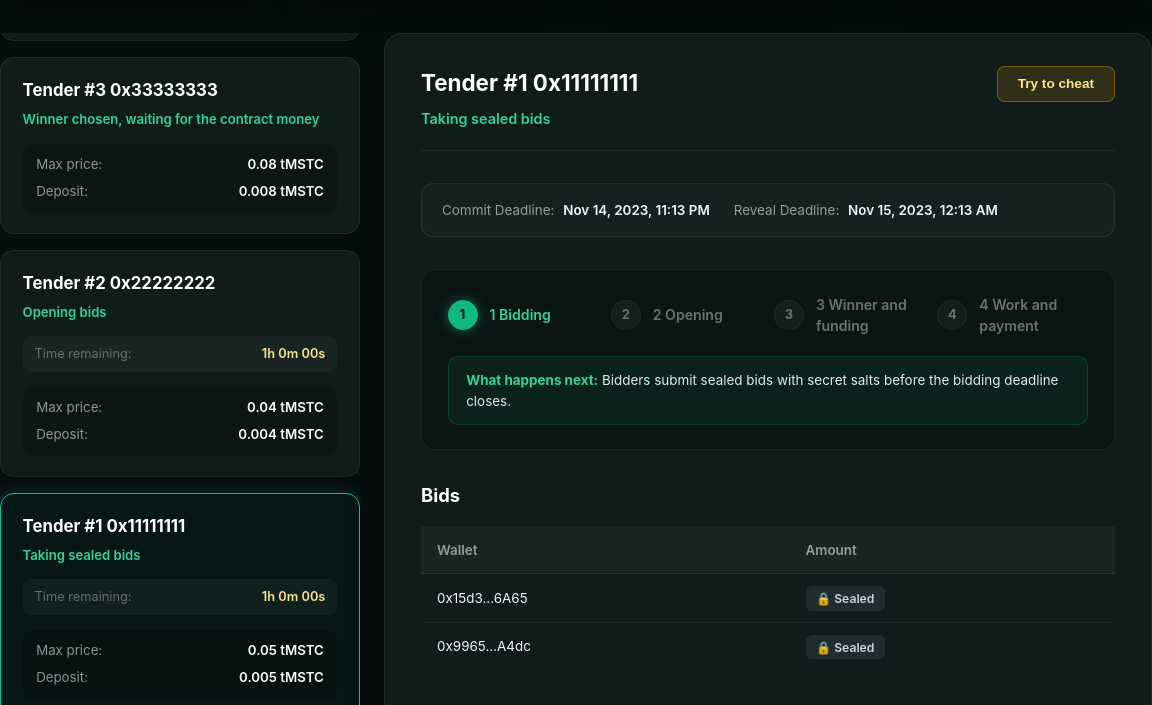
Test: PublicAuditTab Component Tests › opens, runs verification, and closes Try to cheat modal
The image size is (1152, 705).
(page scrolled)
// Open Cheat Modal
What coordinates should you click on to do the following:
click the button "Try to cheat"
I would click on:
 (1056, 84)
Its box is [997, 66, 1115, 102].
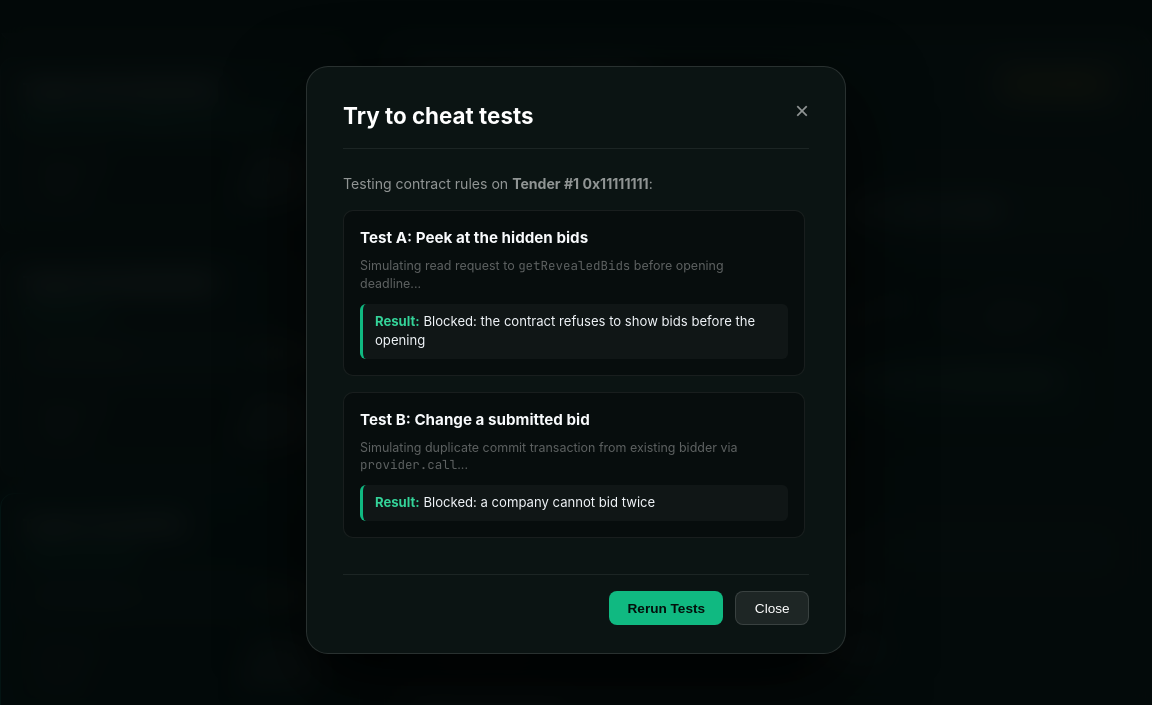
Now the heading "Try to cheat tests" is shown, box [343, 99, 534, 132]
Now the text "Test A: Peek at the hidden bids" is shown, box [360, 228, 588, 247]
Now the text "Test B: Change a submitted bid" is shown, box [360, 410, 590, 429]
// Close button
What coordinates should you click on to do the following:
click the button "×"
I would click on:
 (802, 111)
Its box is [795, 99, 809, 123].
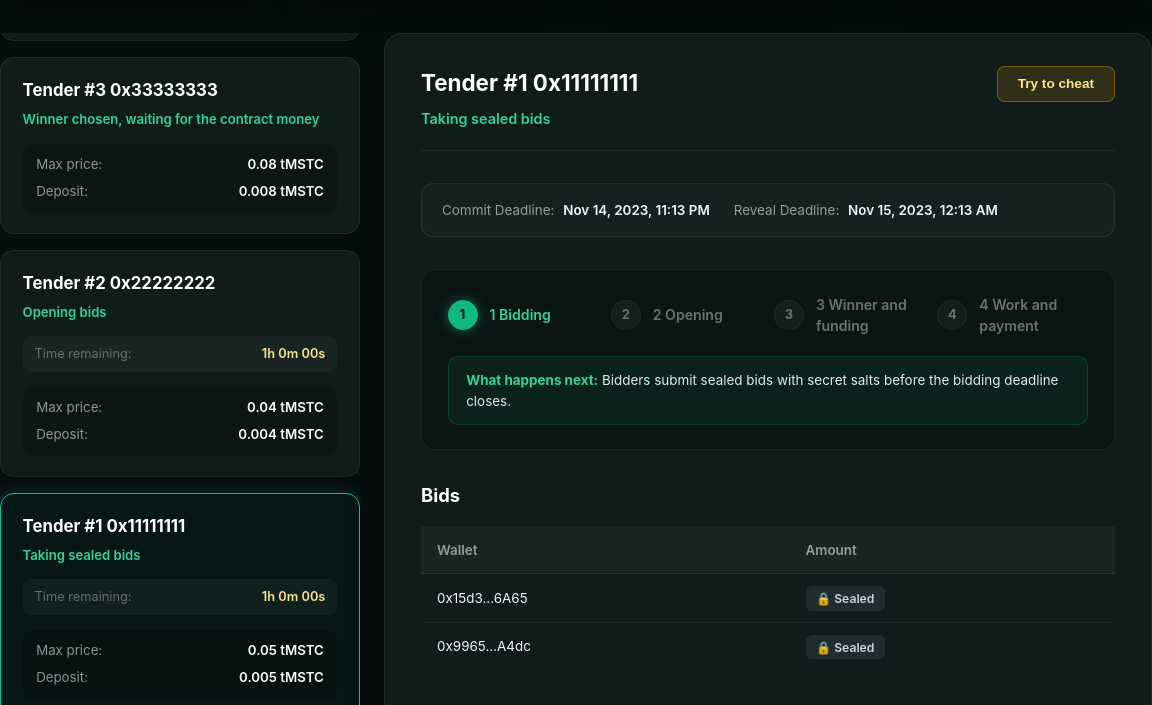
Now the heading "Try to cheat tests" is gone
